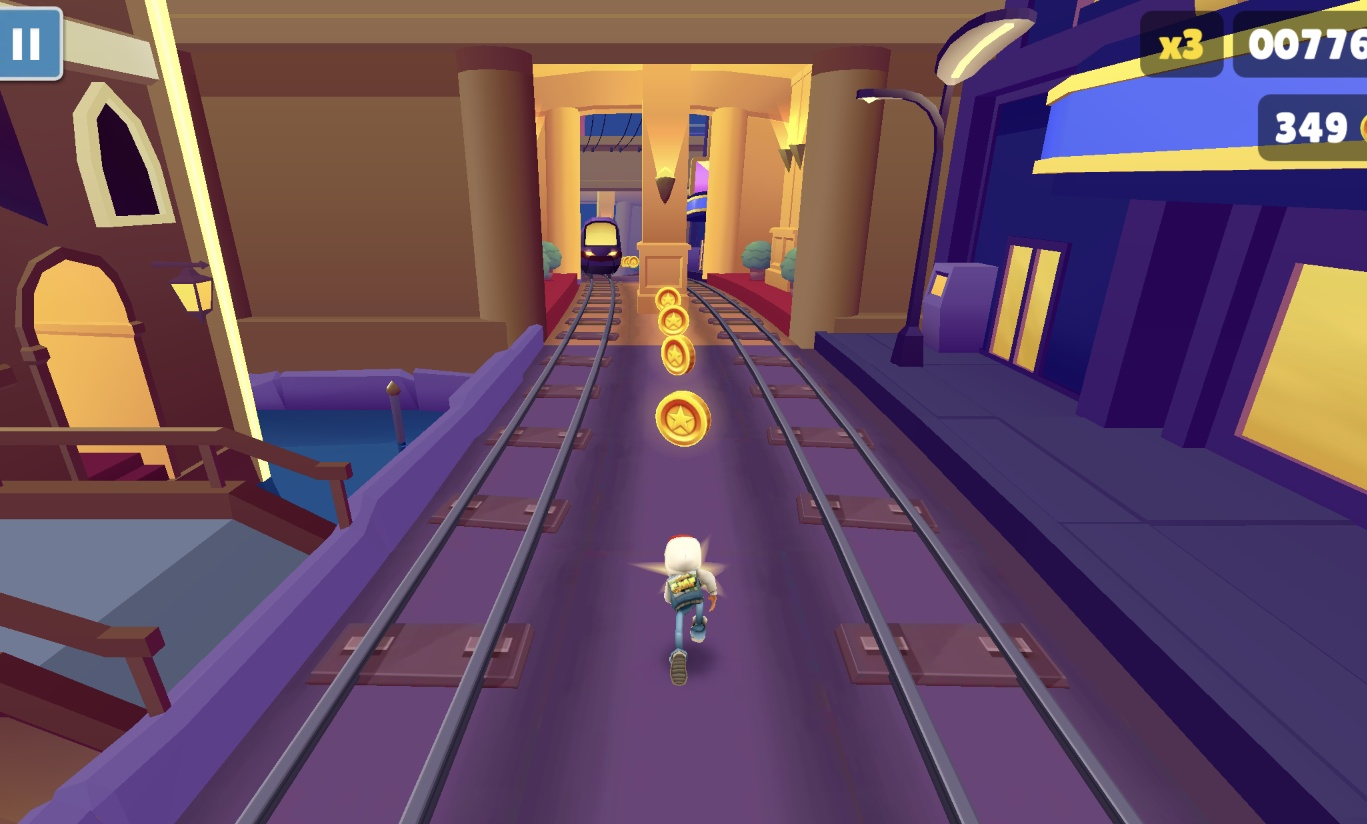pillar: (637, 70, 691, 312)
train: (581, 216, 623, 280)
